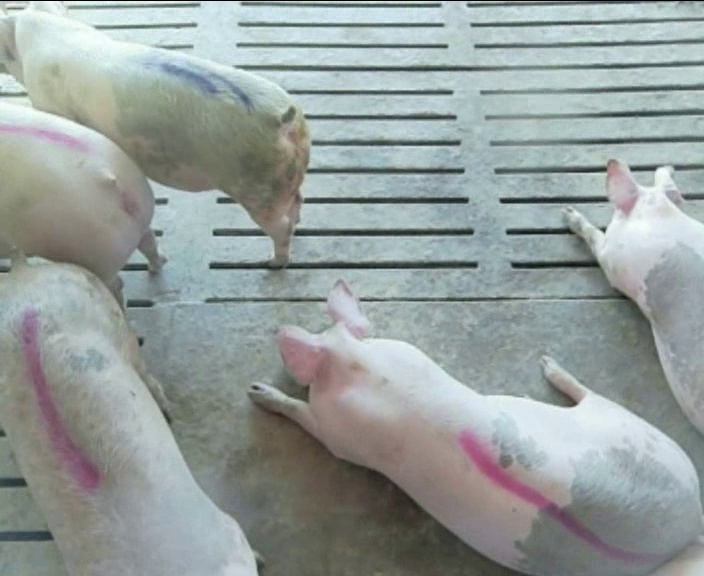pig: (249, 281, 700, 573), (0, 258, 262, 574), (564, 160, 703, 433)
